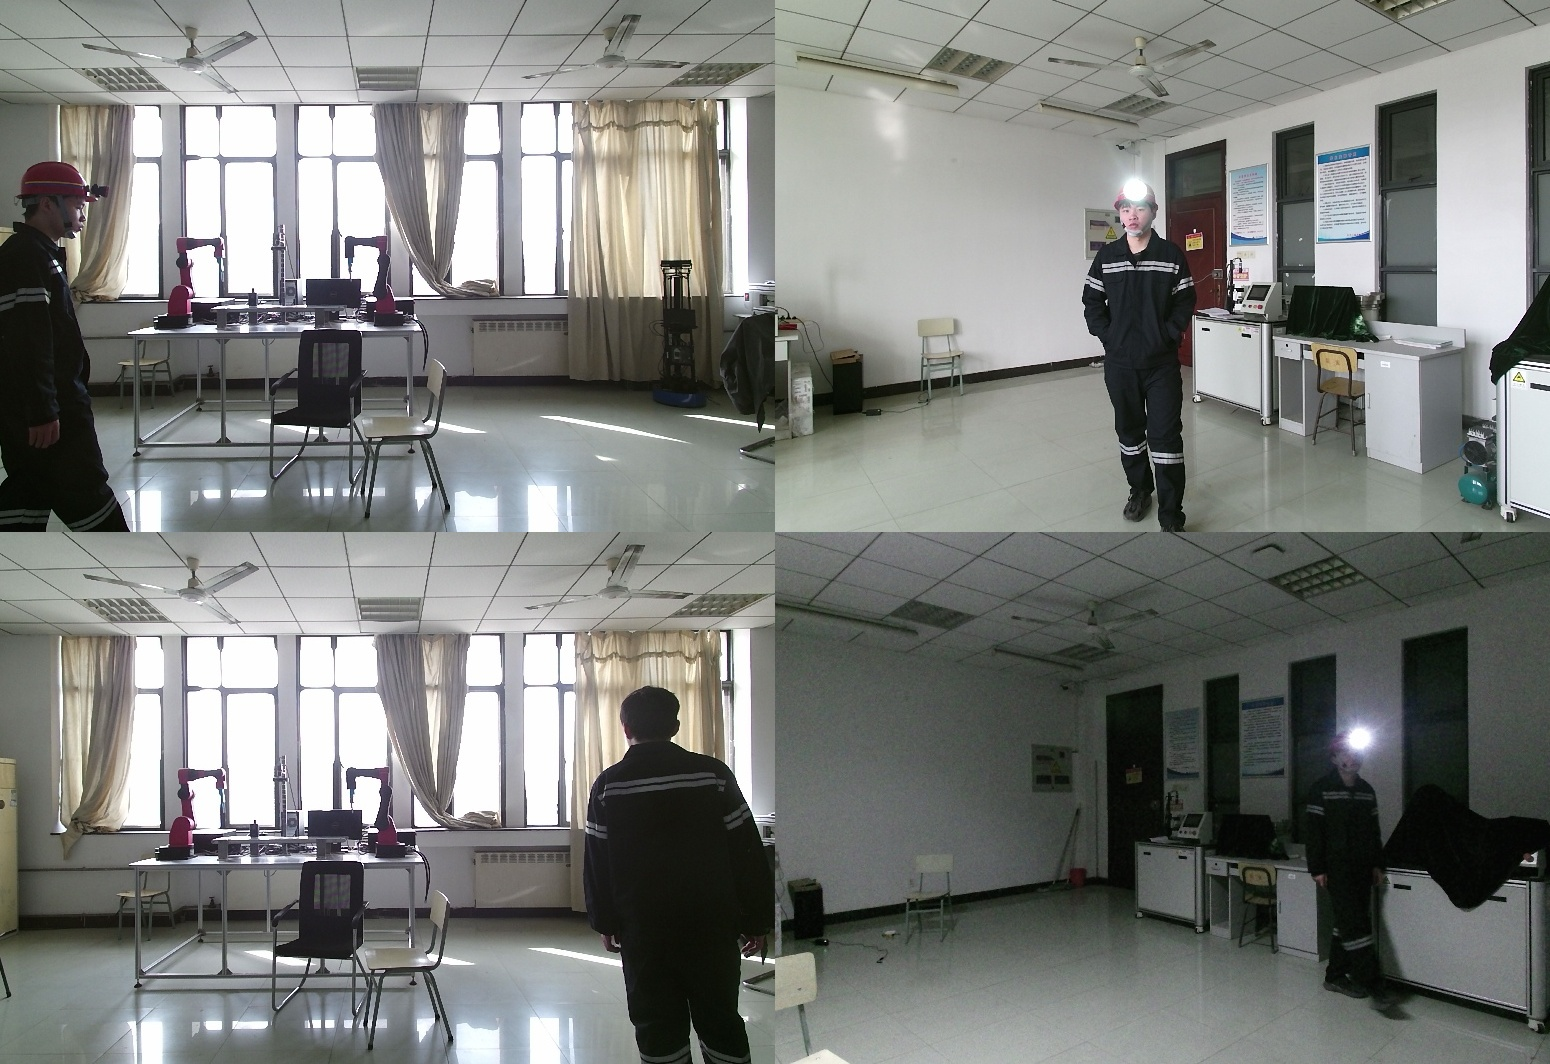person: (582, 686, 769, 1064), (1, 163, 131, 532), (1079, 182, 1209, 532), (1297, 730, 1393, 1008)
